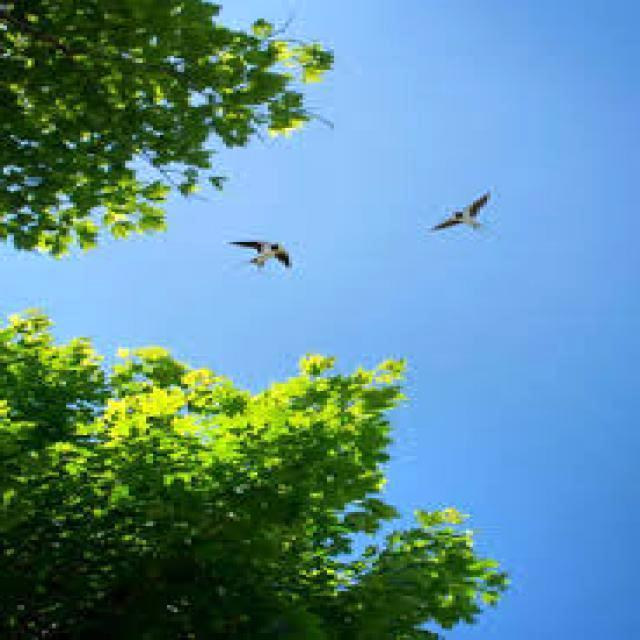bird: (430, 186, 492, 244), (232, 226, 295, 282)
